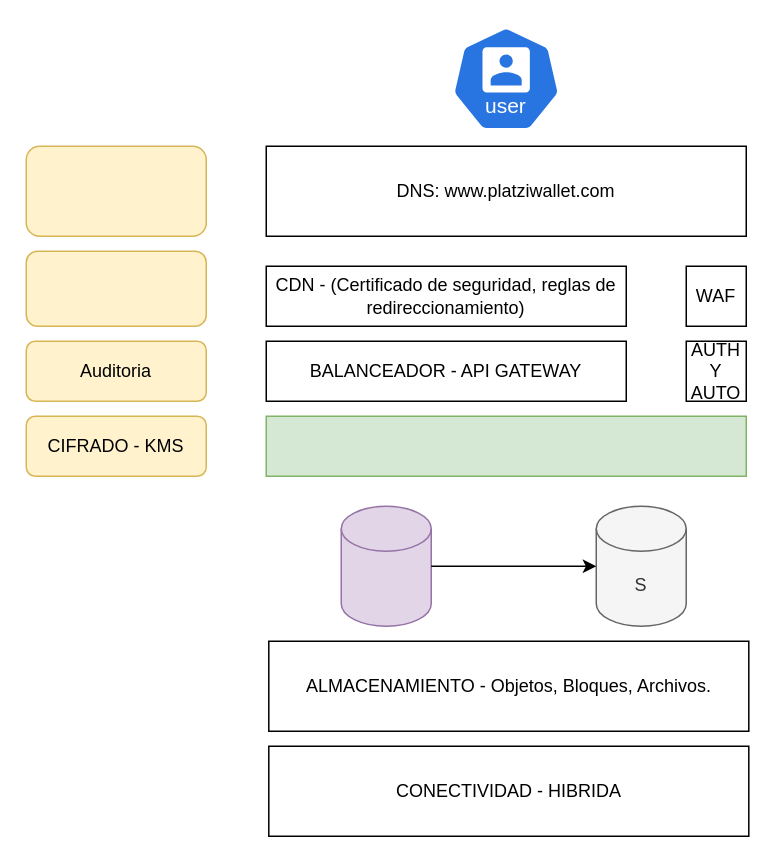
Image size: 776x863. Some labels were removed from this diagram. The centre of each missing label's shape, as x and y in pixels:
"BACKEND - (Servidores, Funciones, Contenedores)" goes at pixel 505 445.
"BD - M" goes at pixel 385 565.
"Compliance" goes at pixel 115 288.
"Observabilidad" goes at pixel 115 190.
